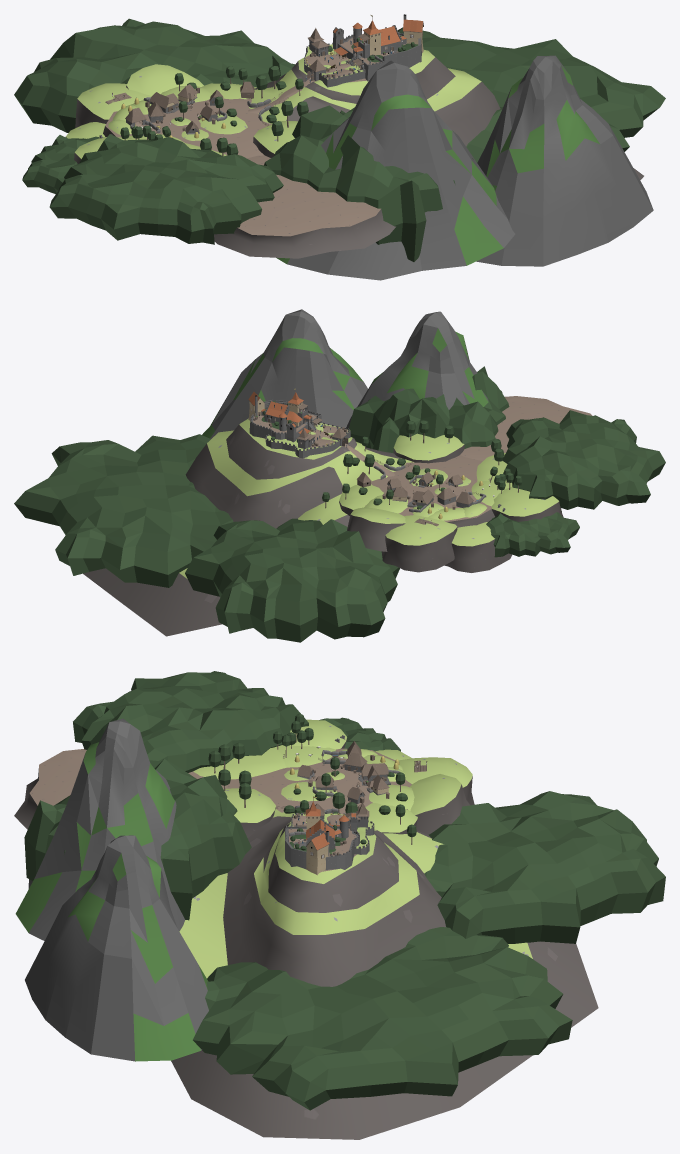
File: medieval_castle_with_village.glb
3 views of the same model, one above another, from view 1: azimuth 30°, elevation 25°; view 2: azimuth 150°, elevation 25°; view 3: azimuth 270°, elevation 25° (orthographic). The views are drawn at different scales.
Parts seen in each view (by area): view 1: Object_16, Object_19, Object_18, Object_12, Object_13, Object_21, Object_17, Object_29, Object_25, Object_28, Object_30, Object_9 (+2 smaller); view 2: Object_16, Object_12, Object_19, Object_18, Object_13, Object_21, Object_29, Object_17, Object_25, Object_28, Object_30, Object_9; view 3: Object_16, Object_12, Object_19, Object_18, Object_21, Object_13, Object_17, Object_29, Object_25, Object_28, Object_8, Object_30.
Boxes of the visible parts, left/top/right/bottom form: Object_16: left=14, top=18, right=665, bottom=261; Object_19: left=99, top=25, right=653, bottom=280; Object_18: left=66, top=44, right=481, bottom=158; Object_12: left=66, top=53, right=643, bottom=258; Object_13: left=105, top=38, right=406, bottom=236; Object_21: left=198, top=35, right=599, bottom=265; Object_17: left=120, top=37, right=414, bottom=155; Object_29: left=150, top=15, right=421, bottom=112; Object_25: left=125, top=28, right=329, bottom=132; Object_28: left=126, top=40, right=394, bottom=135; Object_30: left=333, top=19, right=422, bottom=55; Object_9: left=105, top=21, right=423, bottom=156; Object_16: left=14, top=366, right=665, bottom=642; Object_12: left=83, top=424, right=563, bottom=636; Object_19: left=210, top=309, right=505, bottom=511; Object_18: left=179, top=418, right=558, bottom=578; Object_13: left=253, top=396, right=592, bottom=522; Object_21: left=202, top=328, right=488, bottom=484; Object_29: left=249, top=396, right=433, bottom=506; Object_17: left=263, top=401, right=522, bottom=501; Object_25: left=297, top=428, right=473, bottom=507; Object_28: left=267, top=409, right=486, bottom=512; Object_30: left=248, top=392, right=311, bottom=433; Object_9: left=249, top=398, right=518, bottom=526; Object_16: left=24, top=671, right=665, bottom=1110; Object_12: left=14, top=739, right=598, bottom=1139; Object_19: left=25, top=718, right=390, bottom=1061; Object_18: left=179, top=719, right=532, bottom=978; Object_21: left=15, top=742, right=368, bottom=1061; Object_13: left=29, top=748, right=411, bottom=871; Object_17: left=208, top=713, right=416, bottom=849; Object_29: left=285, top=771, right=387, bottom=869; Object_25: left=297, top=741, right=389, bottom=819; Object_28: left=288, top=750, right=400, bottom=847; Object_8: left=306, top=770, right=388, bottom=875; Object_30: left=305, top=801, right=356, bottom=850.
Size of the model in its own units: 301 by 107 by 246.
35 materials, 34 textured.
